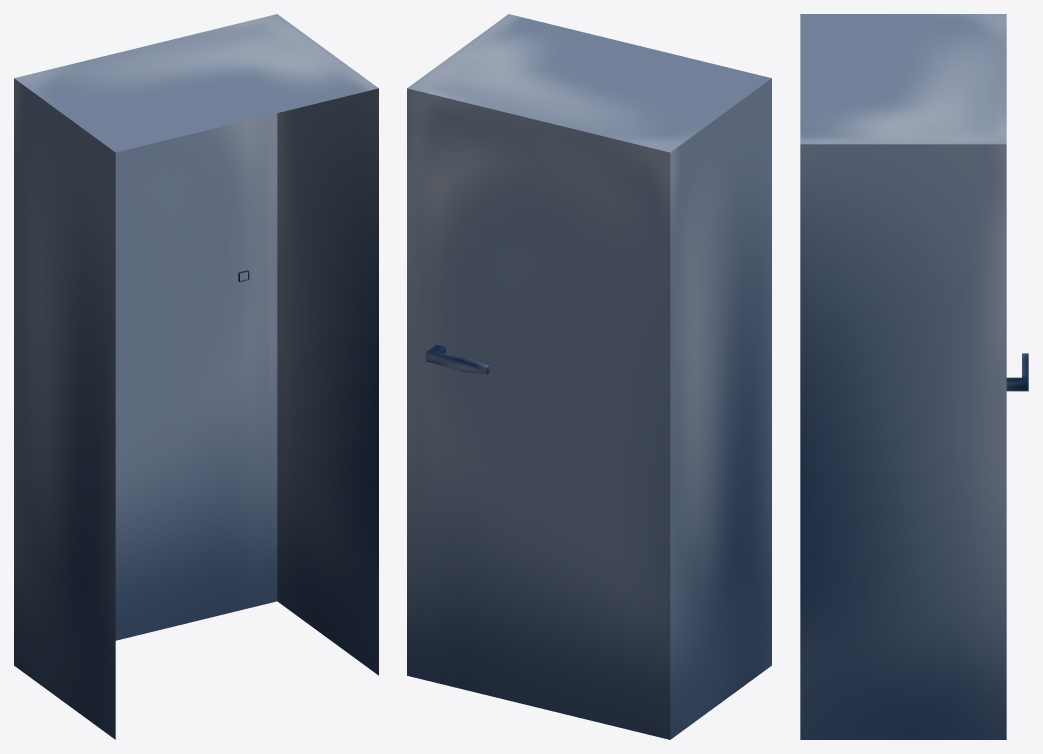
The model's file is ironbox.FBX.
The picture shows the model from 3 angles, left to right: view 1: azimuth 30°, elevation 25°; view 2: azimuth 150°, elevation 25°; view 3: azimuth 270°, elevation 25°; orthographic projection.
Visible parts, largest first — view 1: Ironbox; view 2: Ironbox; view 3: Ironbox.
Boxes of the visible parts, box(x1,y1,x2,y2) form: Ironbox: box(14, 14, 378, 739); Ironbox: box(407, 14, 771, 739); Ironbox: box(800, 14, 1028, 739).
Bounding box in the file's own units: 49.01 × 105 × 36.29.
Materials: 1 (1 with a texture image).
